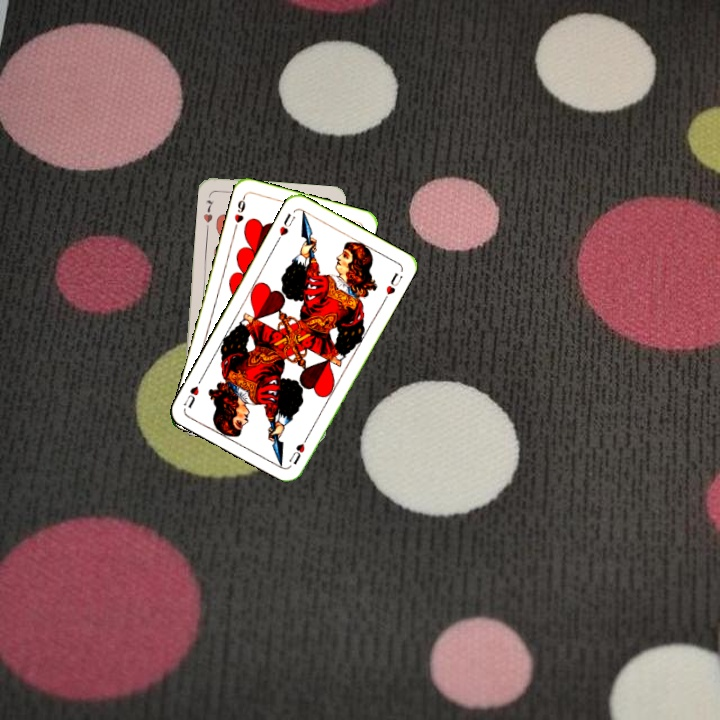H7: (199, 196, 216, 225)
H9: (230, 192, 248, 232)
HU: (285, 431, 312, 467), (273, 209, 298, 245)
